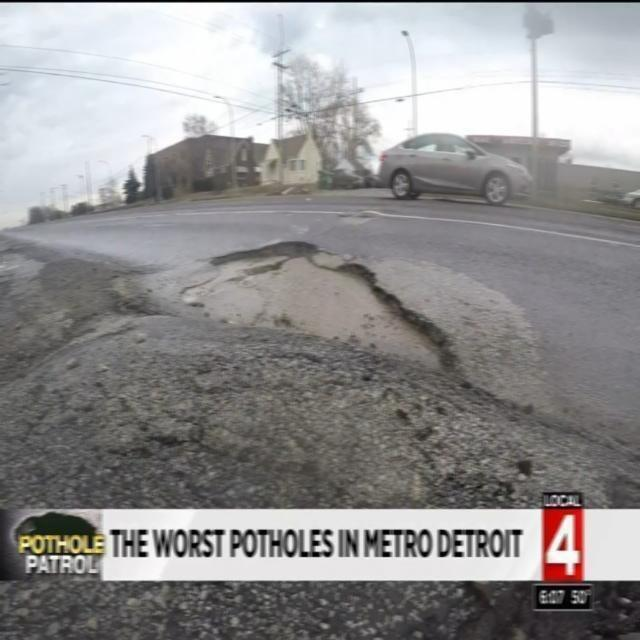Pothole: (158, 228, 472, 390)
